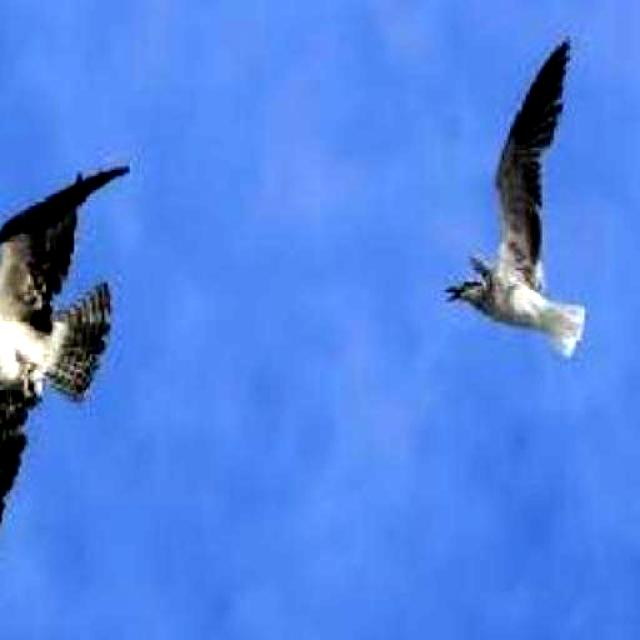airplane: (0, 166, 132, 640), (444, 36, 586, 358)
